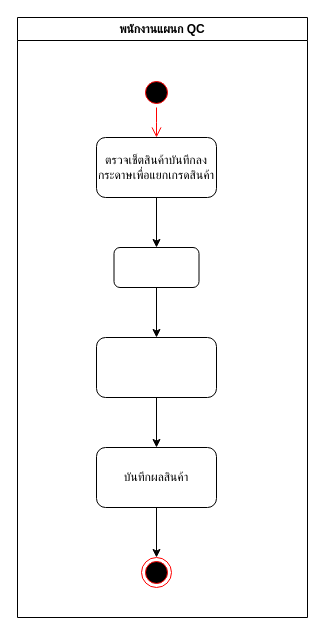
The diagram is 325 pixels wide and 635 high, and some of its shapes have lost their labels. Here are the shapes that lost their labels. From the top down, the centre of each, then its label:
point (156, 267): เข้าสู่ระบบ
point (156, 367): จัดการข้อมูลการคัดแยกคุณภาพสินค้า
